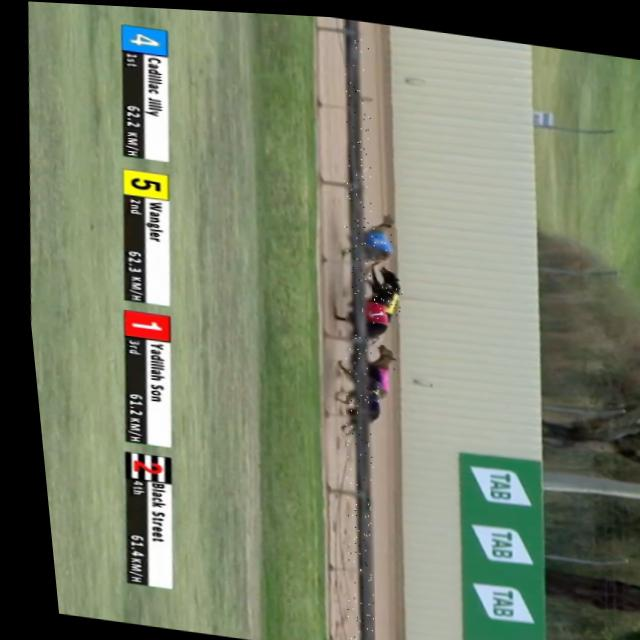dog_eight: (356, 361, 388, 388)
dog_five: (359, 276, 399, 313)
dog_four: (340, 219, 393, 253)
dog_one: (344, 296, 382, 323)
dog_seven: (347, 375, 373, 402)
rail: (341, 14, 360, 640)
